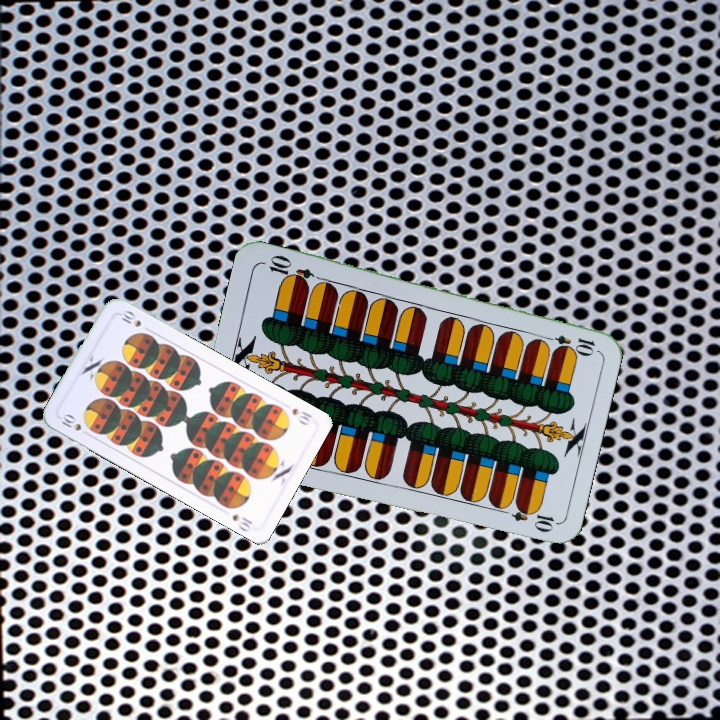E10: (538, 330, 598, 356)
S10: (57, 409, 93, 439), (288, 404, 314, 428)
